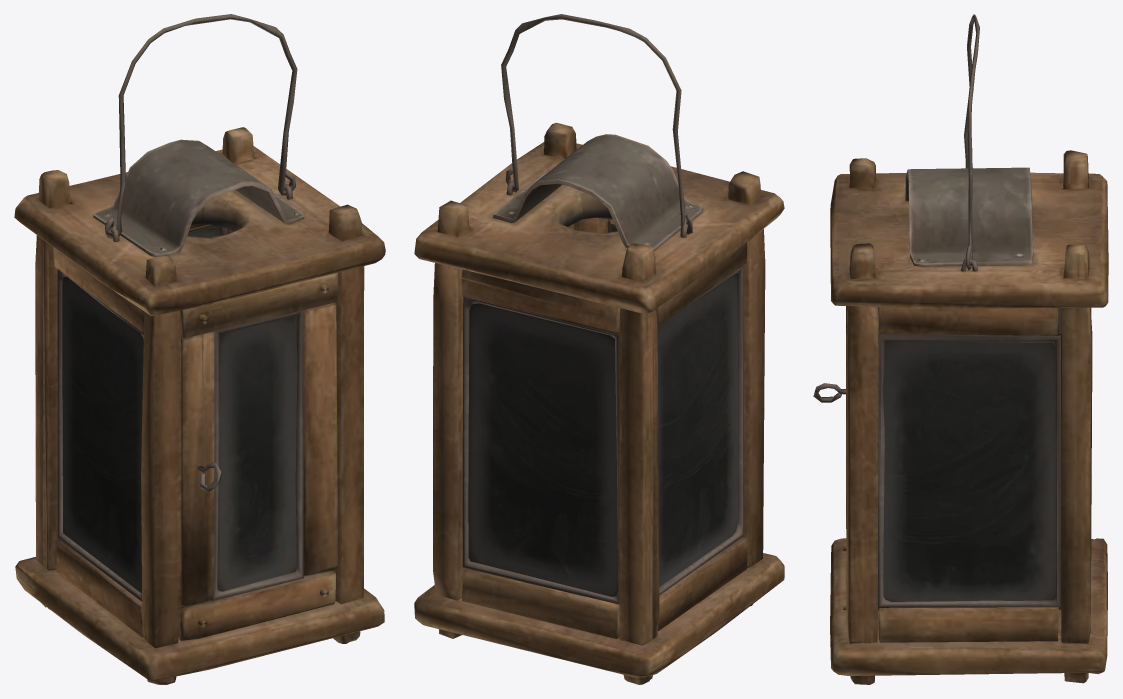
Rendered from wooden_lantern_01.glb.
3 views of the same model, side by side, from view 1: azimuth 30°, elevation 25°; view 2: azimuth 150°, elevation 25°; view 3: azimuth 270°, elevation 25° (orthographic).
Visible parts, largest first — view 1: wooden_lantern_01; view 2: wooden_lantern_01; view 3: wooden_lantern_01.
Part boxes in pixels (left/top/right/bottom): wooden_lantern_01: left=14, top=14, right=385, bottom=684; wooden_lantern_01: left=414, top=14, right=784, bottom=684; wooden_lantern_01: left=813, top=14, right=1108, bottom=684.
Size of the model in its own units: 0.221 by 0.5296 by 0.2341.
2 materials, 2 textured.
